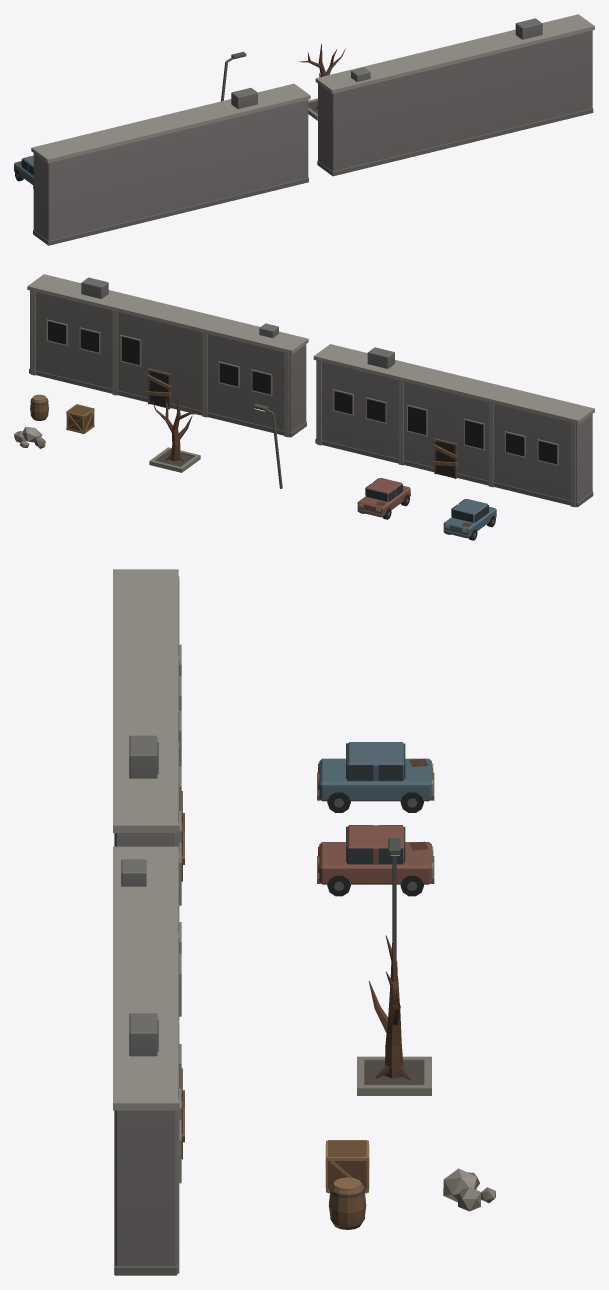
File: city.glb
3 views of the same model, one above another, from view 1: azimuth 30°, elevation 25°; view 2: azimuth 150°, elevation 25°; view 3: azimuth 270°, elevation 25° (orthographic). The views are drawn at different scales.
Parts seen in each view (by area): view 1: AC_FacadeLongA__Body, AC_FacadeLongB__Body, AC_PlanterTree__Body, AC_CarBlue__Body; view 2: AC_FacadeLongA__Body, AC_FacadeLongB__Body, AC_CarBlue__Body, AC_CarRust__Body, AC_PlanterTree__Body, SH_Crate__Body, SH_Rubble__Body, SH_Barrel__Body, AC_Streetlight__Body; view 3: AC_FacadeLongB__Body, AC_FacadeLongA__Body, AC_CarBlue__Body, AC_CarRust__Body, AC_PlanterTree__Body, SH_Crate__Body, SH_Barrel__Body, SH_Rubble__Body.
Part boxes in pixels (x1=…): AC_FacadeLongA__Body: x1=31, y1=83, x2=310, y2=245; AC_FacadeLongB__Body: x1=315, y1=14, x2=594, y2=176; AC_PlanterTree__Body: x1=298, y1=43, x2=345, y2=120; AC_CarBlue__Body: x1=14, y1=155, x2=33, y2=189; AC_FacadeLongA__Body: x1=313, y1=344, x2=594, y2=507; AC_FacadeLongB__Body: x1=27, y1=274, x2=308, y2=437; AC_CarBlue__Body: x1=443, y1=499, x2=496, y2=540; AC_CarRust__Body: x1=357, y1=478, x2=410, y2=519; AC_PlanterTree__Body: x1=149, y1=394, x2=200, y2=472; SH_Crate__Body: x1=66, y1=404, x2=94, y2=433; SH_Rubble__Body: x1=14, y1=426, x2=45, y2=448; SH_Barrel__Body: x1=30, y1=394, x2=48, y2=420; AC_Streetlight__Body: x1=253, y1=403, x2=282, y2=488; AC_FacadeLongB__Body: x1=113, y1=846, x2=184, y2=1275; AC_FacadeLongA__Body: x1=113, y1=569, x2=184, y2=905; AC_CarBlue__Body: x1=317, y1=742, x2=434, y2=812; AC_CarRust__Body: x1=317, y1=825, x2=434, y2=896; AC_PlanterTree__Body: x1=357, y1=935, x2=431, y2=1095; SH_Crate__Body: x1=325, y1=1140, x2=369, y2=1193; SH_Barrel__Body: x1=328, y1=1177, x2=366, y2=1229; SH_Rubble__Body: x1=443, y1=1168, x2=495, y2=1211.
Size of the model in its own units: 135 by 23.2 by 40.82.
